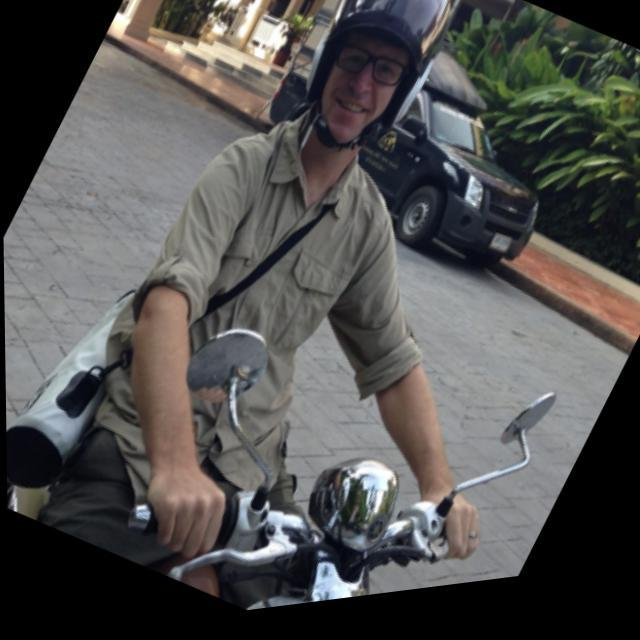Helmet: (295, 0, 468, 153)
